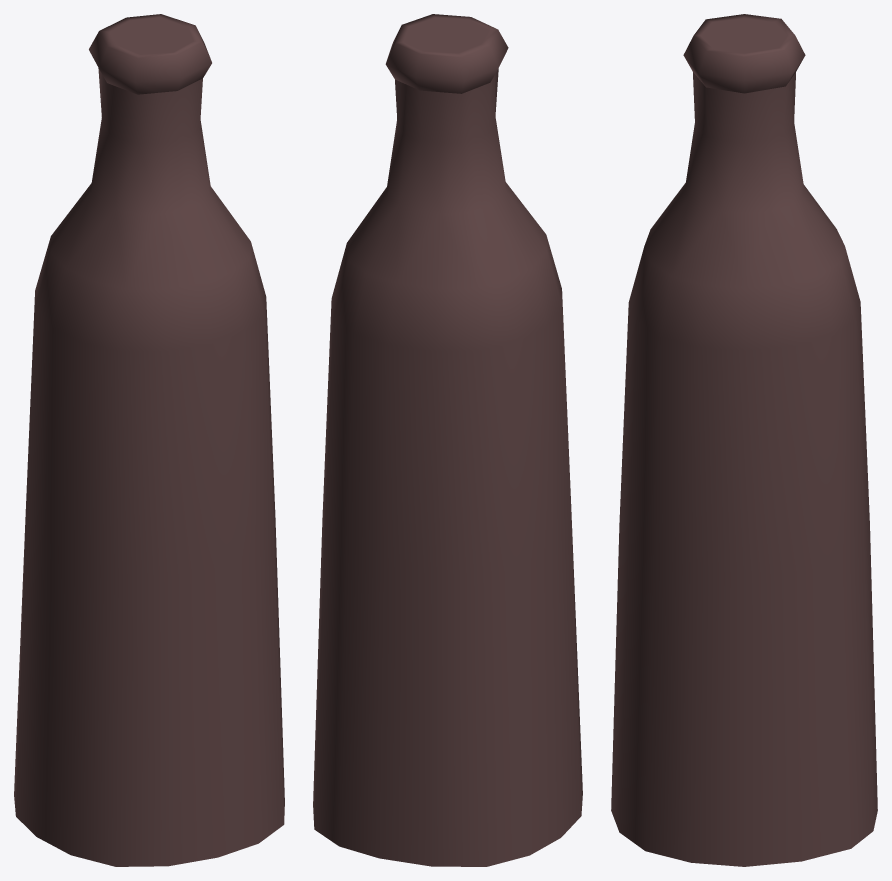
File: flaske2_rosa.fbx
3 views of the same model, side by side, from view 1: azimuth 30°, elevation 25°; view 2: azimuth 150°, elevation 25°; view 3: azimuth 270°, elevation 25° (orthographic).
Visible parts, largest first — view 1: pCube14; view 2: pCube14; view 3: pCube14.
Boxes of the visible parts, x1=… form: pCube14: x1=14, y1=14, x2=284, y2=866; pCube14: x1=313, y1=14, x2=582, y2=866; pCube14: x1=611, y1=14, x2=877, y2=866.
Size of the model in its own units: 1 by 3.21 by 1.
